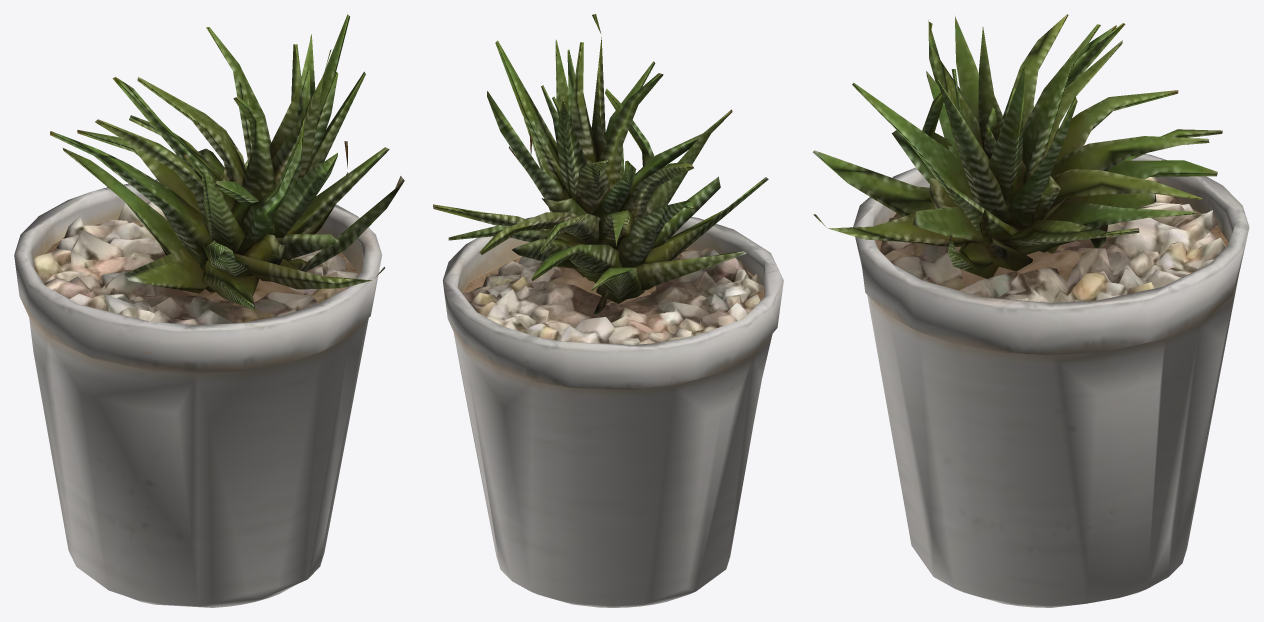
File: potted_plant_04.glb
3 renders of one model, left to right at view 1: azimuth 30°, elevation 25°; view 2: azimuth 150°, elevation 25°; view 3: azimuth 270°, elevation 25°, orthographic. The views are drawn at different scales.
Parts seen in each view (by area): view 1: potted_plant_04_ground; view 2: potted_plant_04_ground; view 3: potted_plant_04_ground.
Part boxes in pixels (x1,y1,x2,y2): potted_plant_04_ground: [14, 14, 404, 607]; potted_plant_04_ground: [433, 14, 783, 607]; potted_plant_04_ground: [812, 14, 1249, 607].
Size of the model in its own units: 0.1664 by 0.2671 by 0.1841.
1 material, 1 textured.
